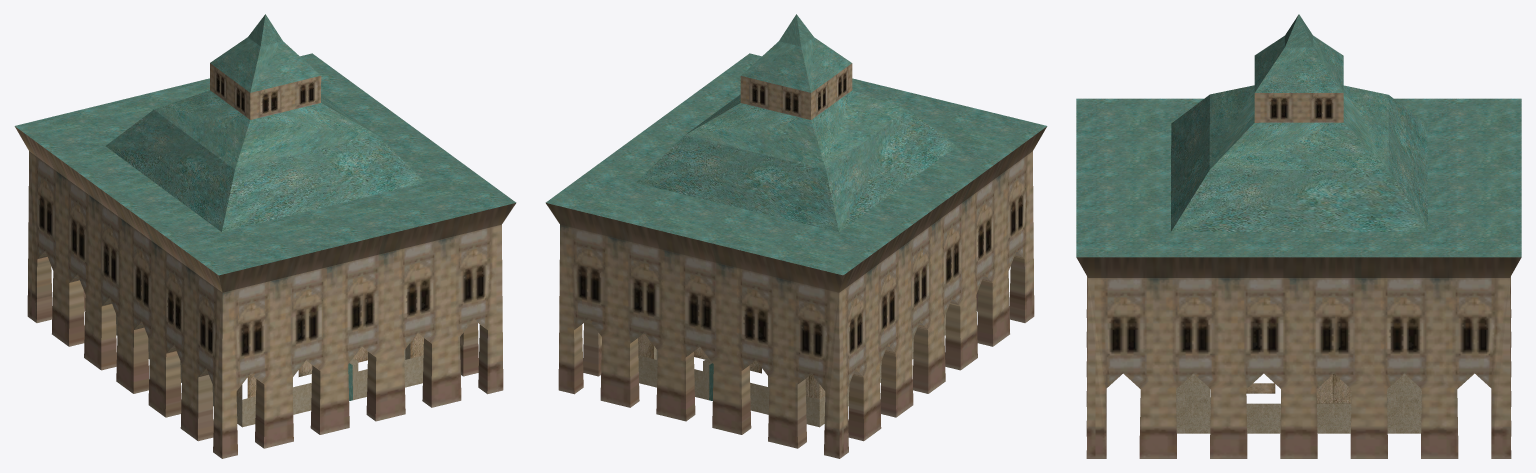
Rendered from thm_nboo_thed_imprv_building_s05_l2.fbx.
3 views of the same model, side by side, from view 1: azimuth 30°, elevation 25°; view 2: azimuth 150°, elevation 25°; view 3: azimuth 270°, elevation 25° (orthographic). The views are drawn at different scales.
Parts seen in each view (by area): view 1: mesh_node; view 2: mesh_node; view 3: mesh_node.
Part boxes in pixels (x1,y1,x2,y2): mesh_node: [14, 14, 516, 458]; mesh_node: [545, 14, 1047, 458]; mesh_node: [1076, 14, 1521, 458].
Size of the model in its own units: 24 by 26.14 by 28.5.
